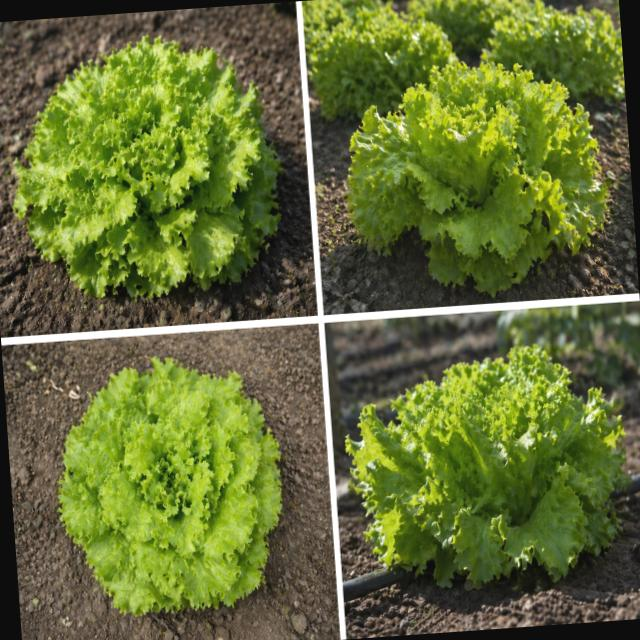lista_para_cosechar: (13, 36, 279, 296), (345, 345, 625, 587), (347, 62, 606, 296), (58, 357, 280, 614)
